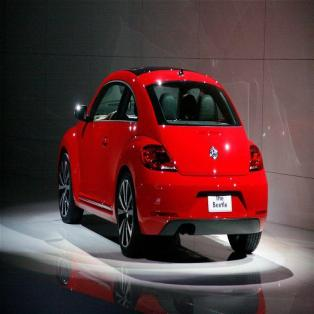Auto: (55, 64, 271, 261)
